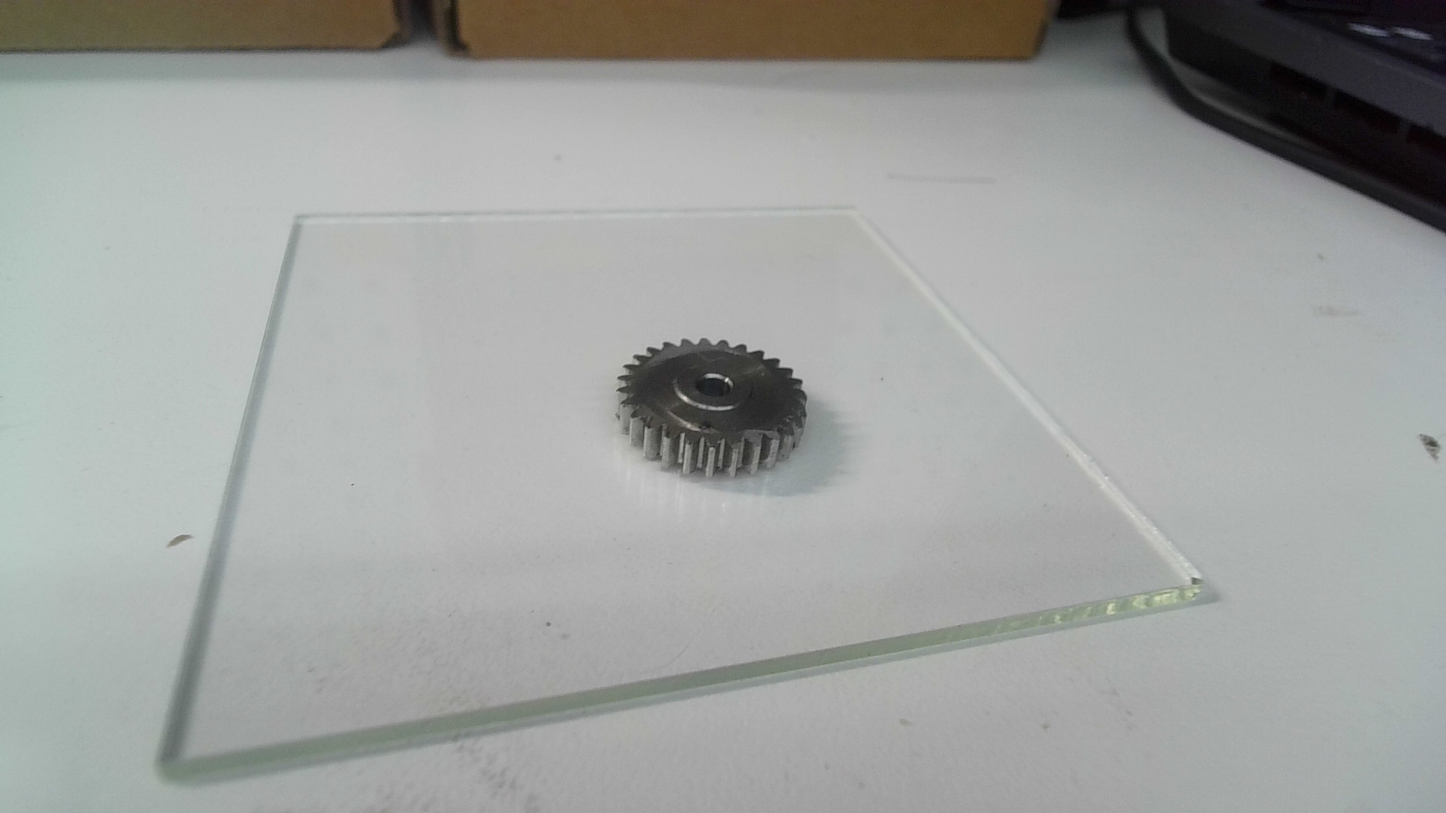gear: (612, 336, 809, 480)
